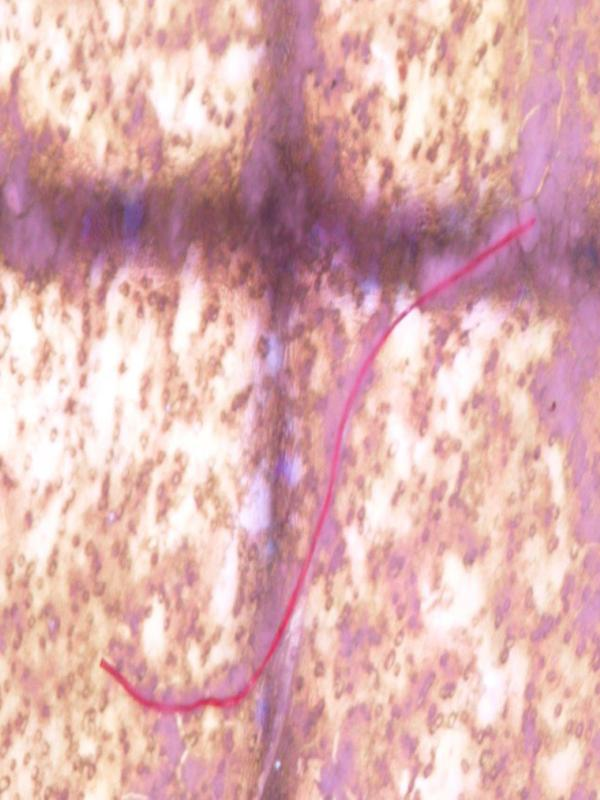microplastic: (2, 3, 596, 796), (98, 207, 540, 718)
